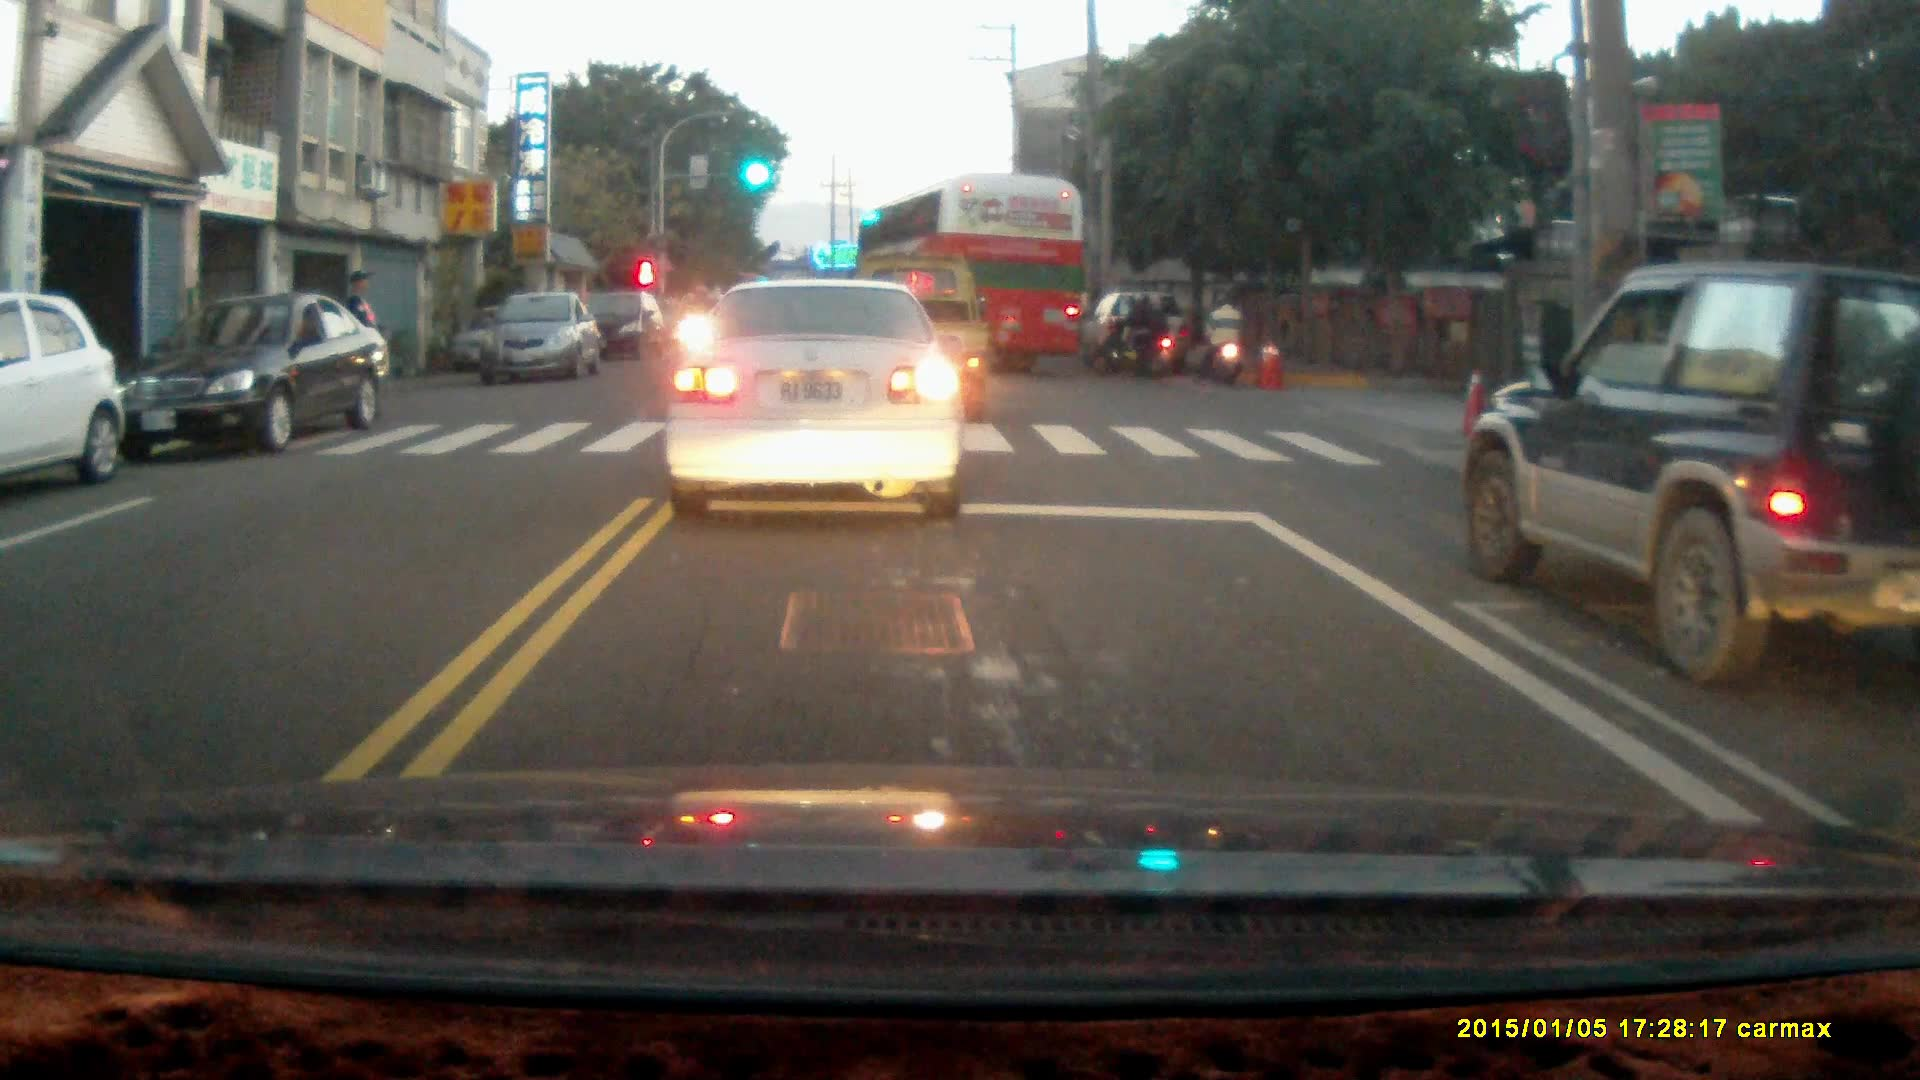pedestrian: (340, 269, 381, 411)
rider: (1092, 291, 1172, 379), (1191, 290, 1243, 388)
vehicle: (1464, 261, 1920, 688), (668, 278, 966, 524), (853, 171, 1088, 378), (109, 296, 395, 463), (1, 289, 127, 493), (468, 293, 607, 387), (1093, 290, 1211, 383), (581, 296, 671, 368)
